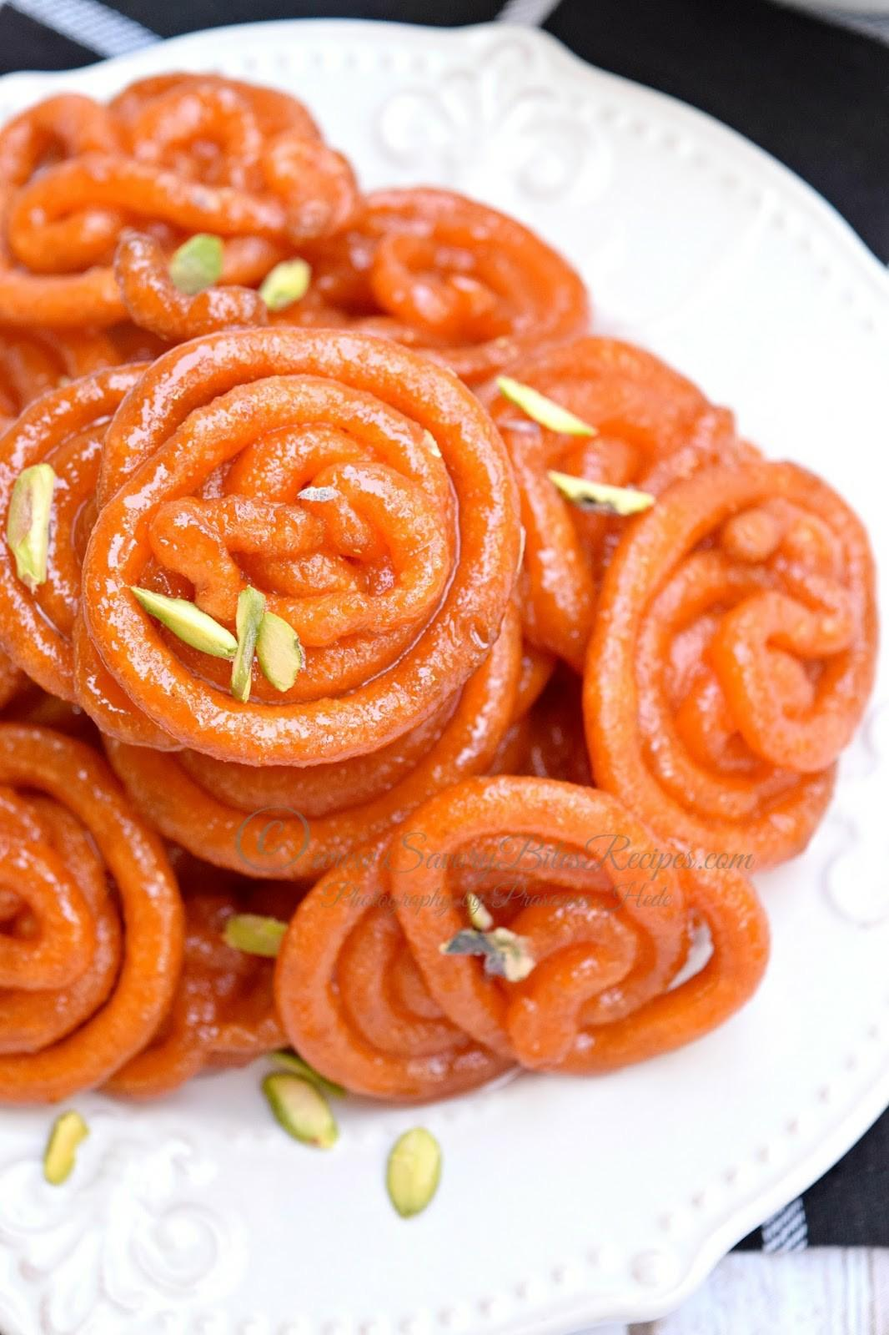Jalebi: (0, 62, 887, 1104)
